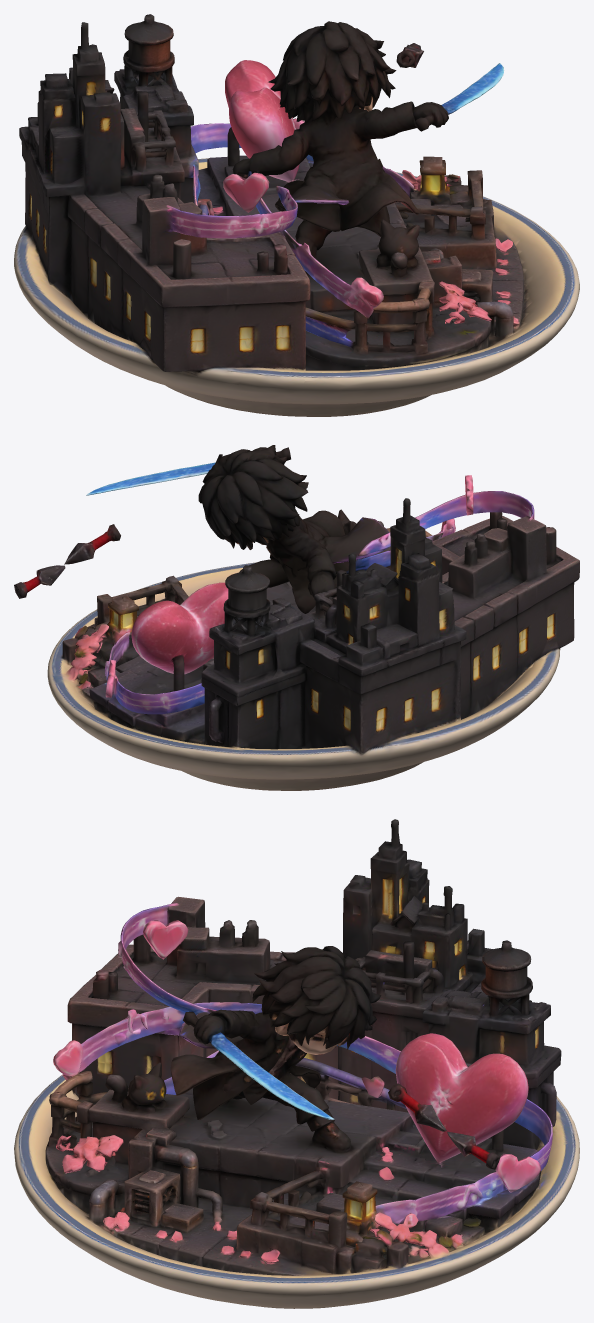
Rendered from assassin.glb.
3 views of the same model, one above another, from view 1: azimuth 30°, elevation 25°; view 2: azimuth 150°, elevation 25°; view 3: azimuth 270°, elevation 25° (orthographic). The views are drawn at different scales.
Visible parts, largest first — view 1: tripo_node_aa9b6d60-65bd-48ea-9825-7ac0e08fc242; view 2: tripo_node_aa9b6d60-65bd-48ea-9825-7ac0e08fc242; view 3: tripo_node_aa9b6d60-65bd-48ea-9825-7ac0e08fc242.
Part boxes in pixels (box(x1,y1,x2,y2)): tripo_node_aa9b6d60-65bd-48ea-9825-7ac0e08fc242: box(14, 14, 579, 416); tripo_node_aa9b6d60-65bd-48ea-9825-7ac0e08fc242: box(14, 445, 579, 790); tripo_node_aa9b6d60-65bd-48ea-9825-7ac0e08fc242: box(14, 819, 579, 1308).
Size of the model in its own units: 0.9996 by 0.6599 by 1.
Materials: 1 (1 with a texture image).
